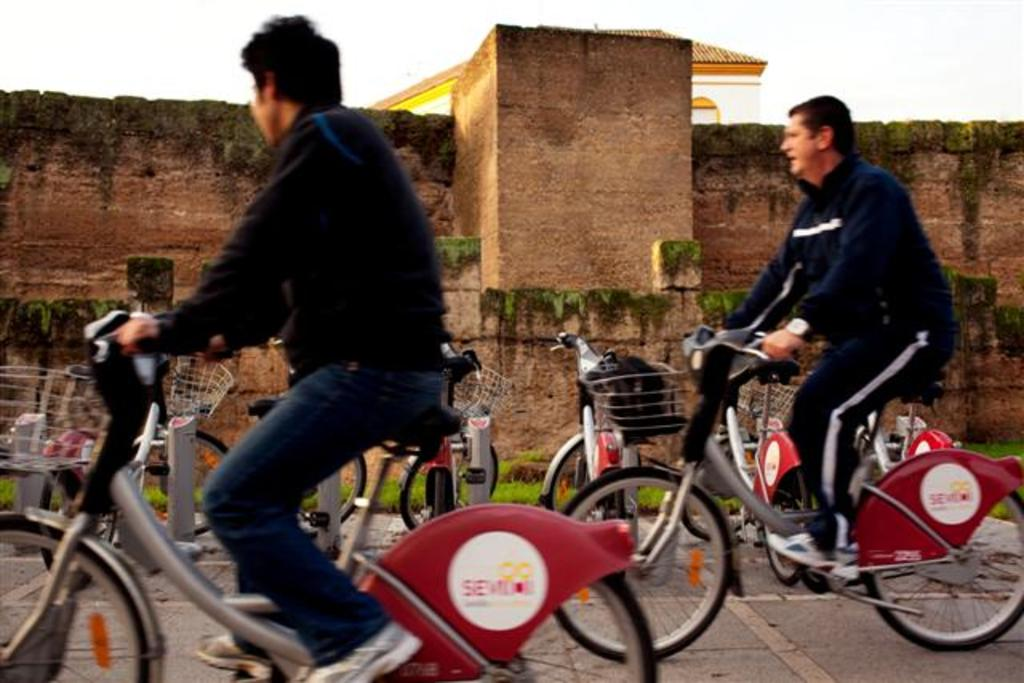Bike_away: (10, 311, 664, 683), (561, 331, 1019, 658)
